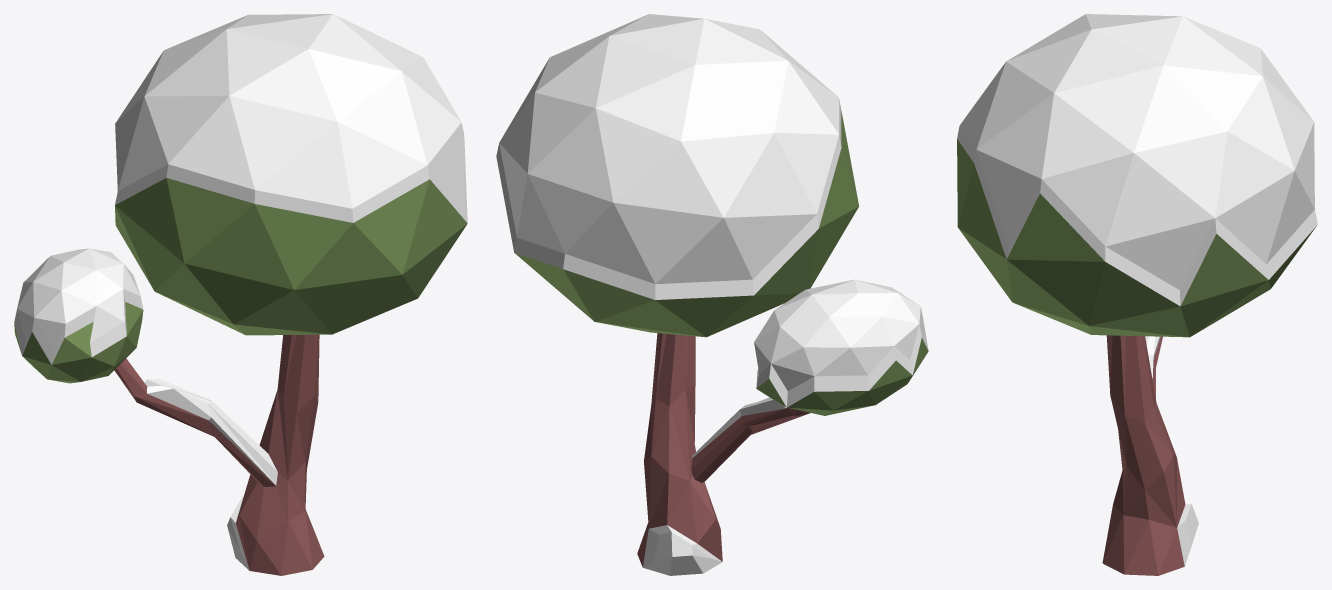
Rendered from Poplar Tree_1 Snow.fbx.
The picture shows the model from 3 angles, left to right: view 1: azimuth 30°, elevation 25°; view 2: azimuth 150°, elevation 25°; view 3: azimuth 270°, elevation 25°; orthographic projection.
Visible parts, largest first — view 1: Poplar Tree_1 Snow; view 2: Poplar Tree_1 Snow; view 3: Poplar Tree_1 Snow.
Boxes of the visible parts, bbox=[...] form: Poplar Tree_1 Snow: bbox=[14, 14, 467, 575]; Poplar Tree_1 Snow: bbox=[496, 14, 928, 575]; Poplar Tree_1 Snow: bbox=[957, 14, 1317, 575].
Size of the model in its own units: 4.08 by 4.98 by 3.08.
